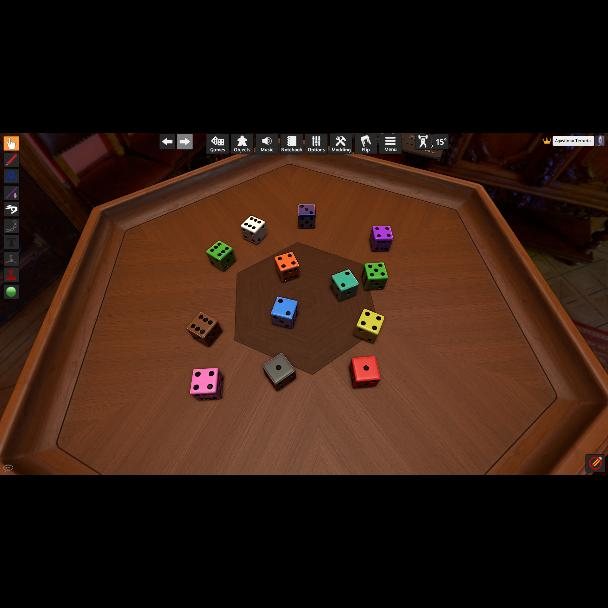d6: (262, 353, 296, 391), (189, 311, 223, 347), (190, 368, 224, 400), (354, 308, 384, 344), (350, 356, 380, 388), (271, 296, 299, 328), (206, 242, 235, 272), (330, 269, 356, 301), (274, 253, 300, 283), (240, 215, 266, 245), (362, 262, 388, 290), (369, 226, 393, 253), (298, 204, 314, 229)
